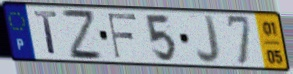5: (143, 13, 179, 63)
7: (224, 14, 253, 68)
F: (106, 12, 138, 60)
J: (195, 13, 223, 66)
T: (32, 9, 60, 57)
Z: (59, 7, 105, 61)
